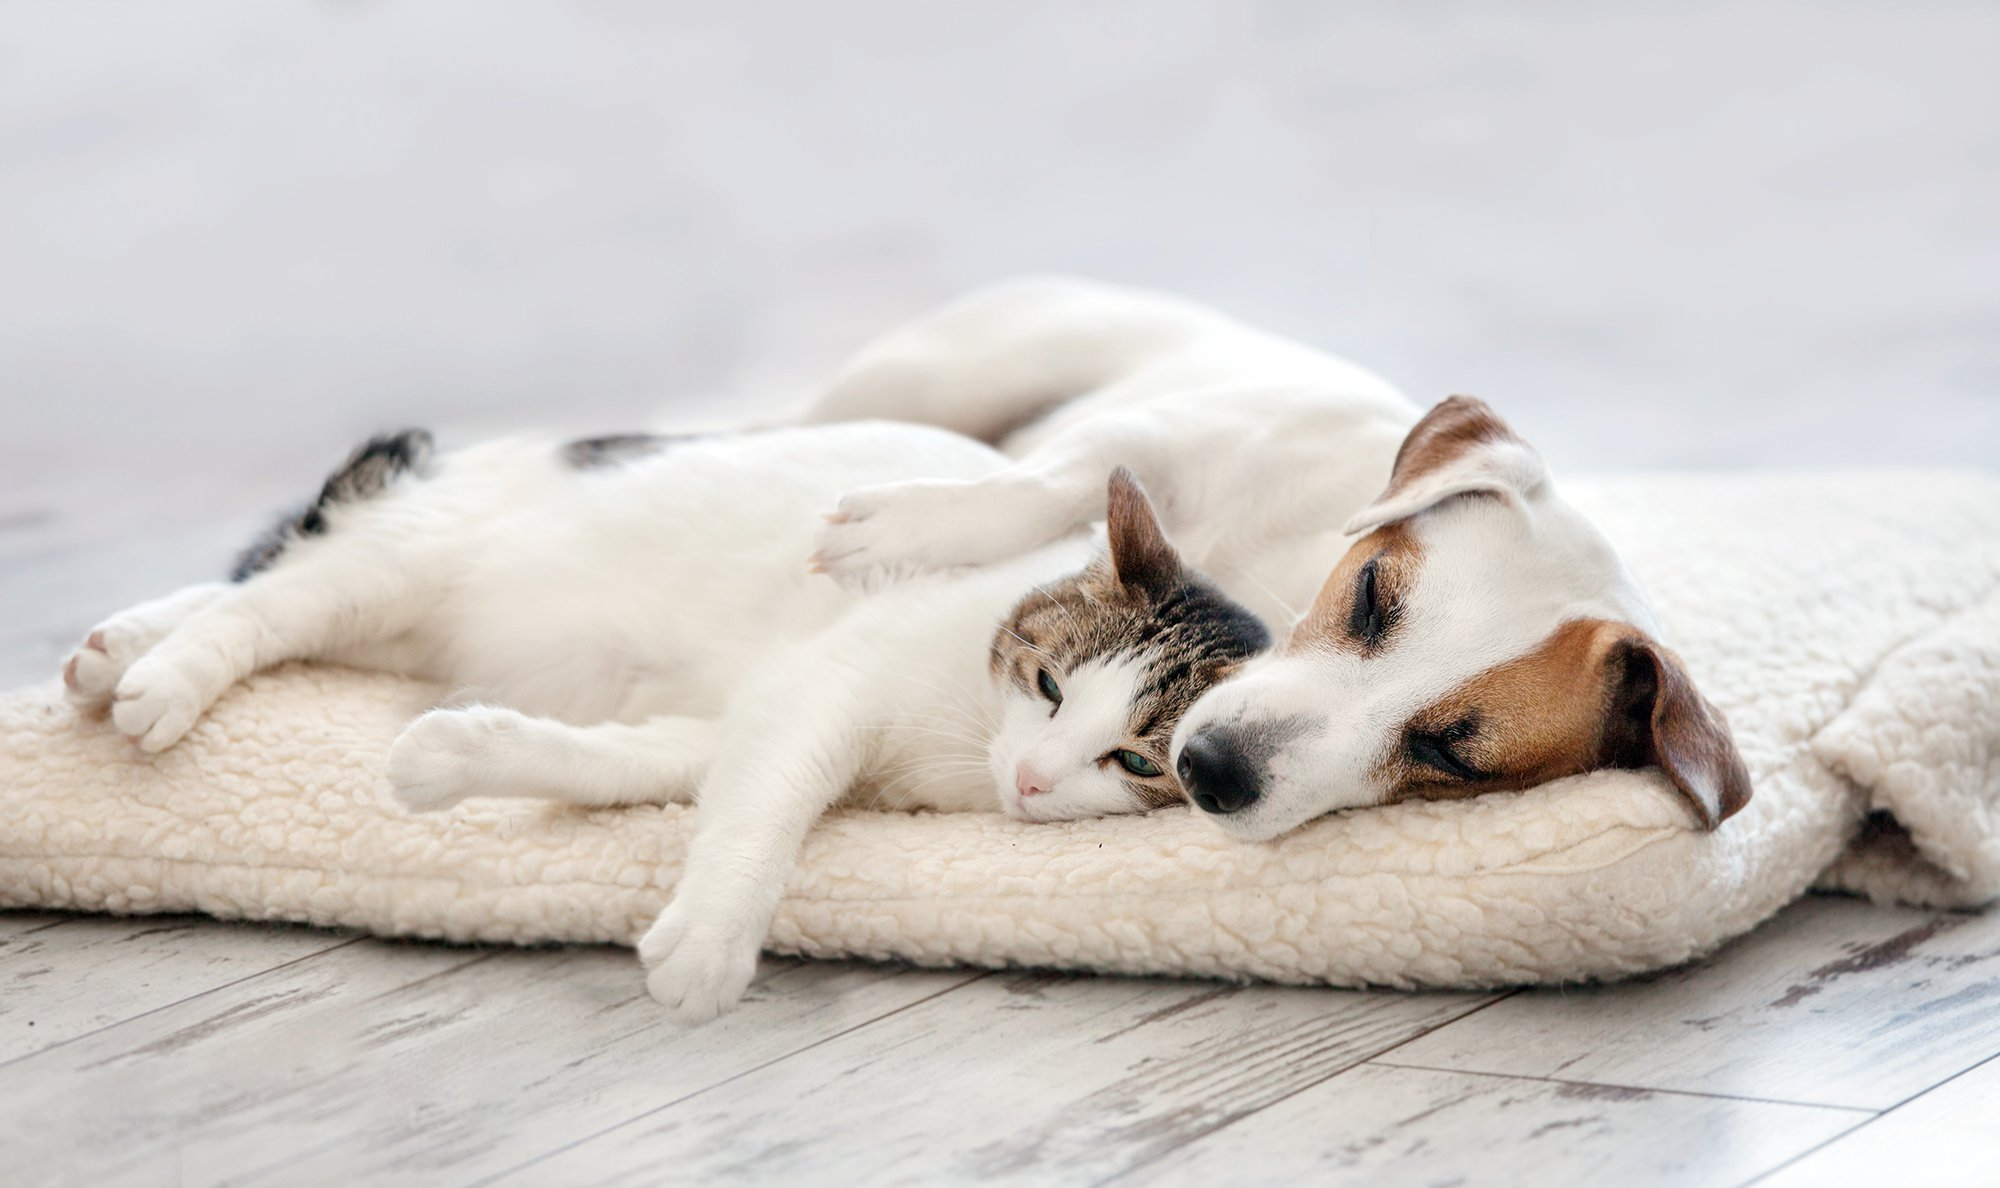cat: (52, 372, 1274, 1035)
dog: (754, 264, 1760, 846)
